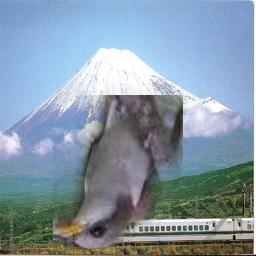Cuckoo: (53, 95, 183, 249)
